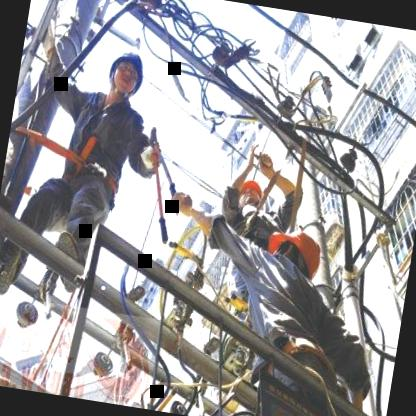helmet: (260, 222, 328, 284), (103, 42, 148, 104), (232, 174, 266, 218)
